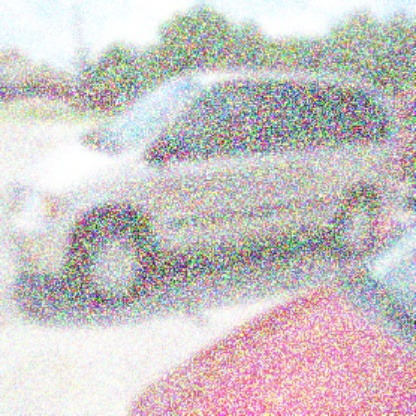Vehicle: (1, 65, 415, 302)
